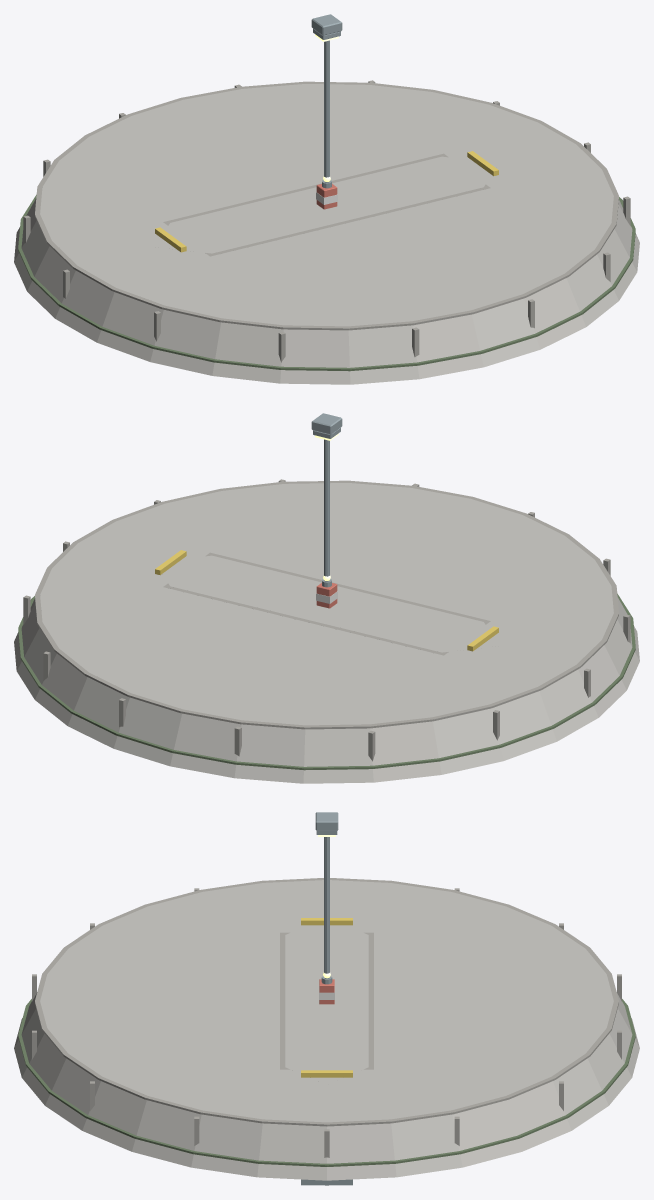
Rendered from swing_bridge.glb.
The picture shows the model from 3 angles, top to bottom: view 1: azimuth 30°, elevation 25°; view 2: azimuth 150°, elevation 25°; view 3: azimuth 270°, elevation 25°; orthographic projection.
Parts seen in each view (by area): view 1: sw_pivot_mesh, sw_pier_mesh, sw_lamp_mesh, sw_span_mesh, sw_gatepost_mesh; view 2: sw_pivot_mesh, sw_pier_mesh, sw_lamp_mesh, sw_span_mesh, sw_gatepost_mesh; view 3: sw_pivot_mesh, sw_pier_mesh, sw_lamp_mesh, sw_span_mesh.
Part boxes in pixels (left/top/right/bottom): sw_pivot_mesh: left=14, top=80, right=639, bottom=384; sw_pier_mesh: left=155, top=153, right=498, bottom=256; sw_lamp_mesh: left=311, top=14, right=342, bottom=182; sw_span_mesh: left=155, top=151, right=498, bottom=252; sw_gatepost_mesh: left=316, top=176, right=337, bottom=209; sw_pivot_mesh: left=14, top=479, right=639, bottom=783; sw_pier_mesh: left=155, top=552, right=498, bottom=655; sw_lamp_mesh: left=311, top=413, right=342, bottom=581; sw_span_mesh: left=155, top=550, right=498, bottom=651; sw_gatepost_mesh: left=316, top=575, right=337, bottom=608; sw_pivot_mesh: left=14, top=878, right=639, bottom=1180; sw_pier_mesh: left=280, top=925, right=373, bottom=1084; sw_lamp_mesh: left=315, top=812, right=338, bottom=978; sw_span_mesh: left=301, top=918, right=352, bottom=1185.
Bounding box in the file's own units: 12 × 6.3 × 12.
